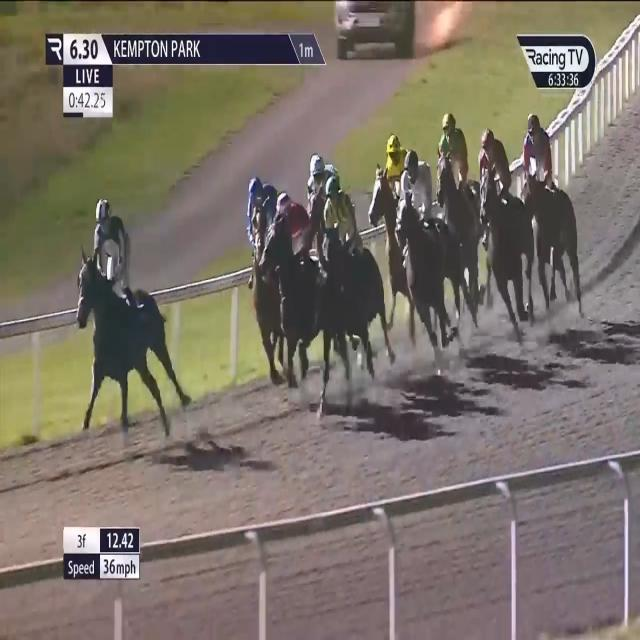horses-racing: (74, 201, 184, 429), (396, 149, 462, 346), (327, 174, 384, 402), (477, 129, 538, 321), (523, 113, 580, 309), (269, 185, 328, 372), (437, 114, 492, 301), (244, 174, 280, 378), (378, 134, 410, 278), (305, 156, 344, 246)
